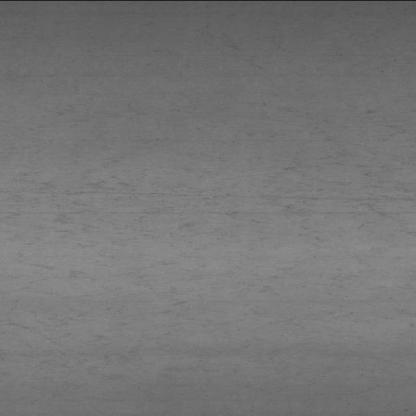silk_spot: (32, 260, 402, 405), (24, 111, 402, 250)
